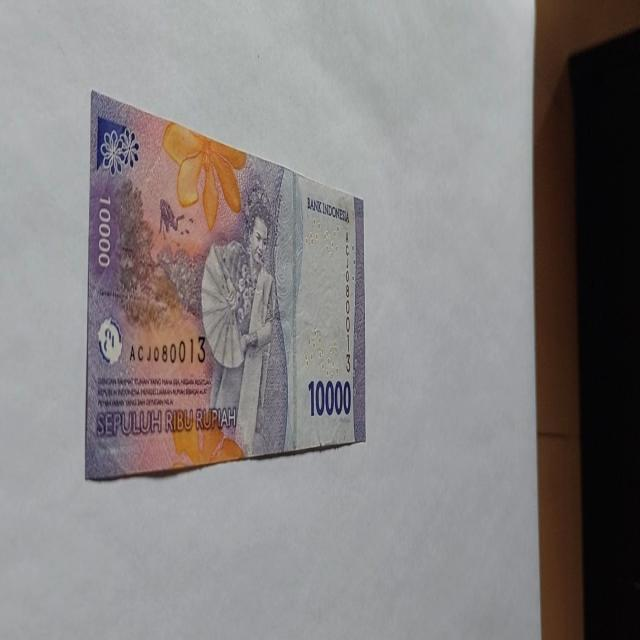sepuluh ribu rupiah: (84, 89, 366, 482)
